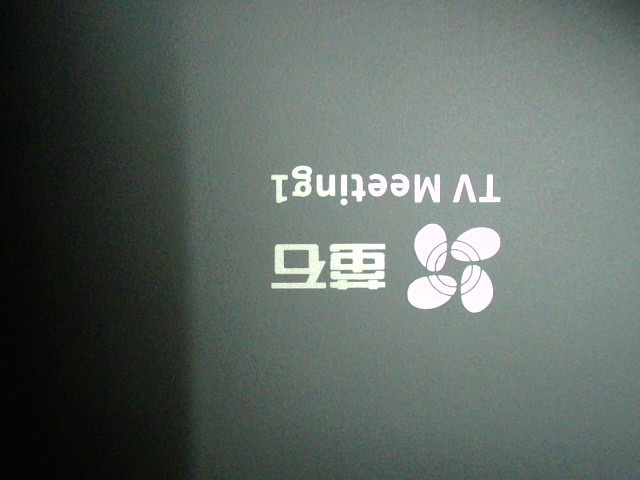BA_Yingshi: (263, 168, 502, 317)
